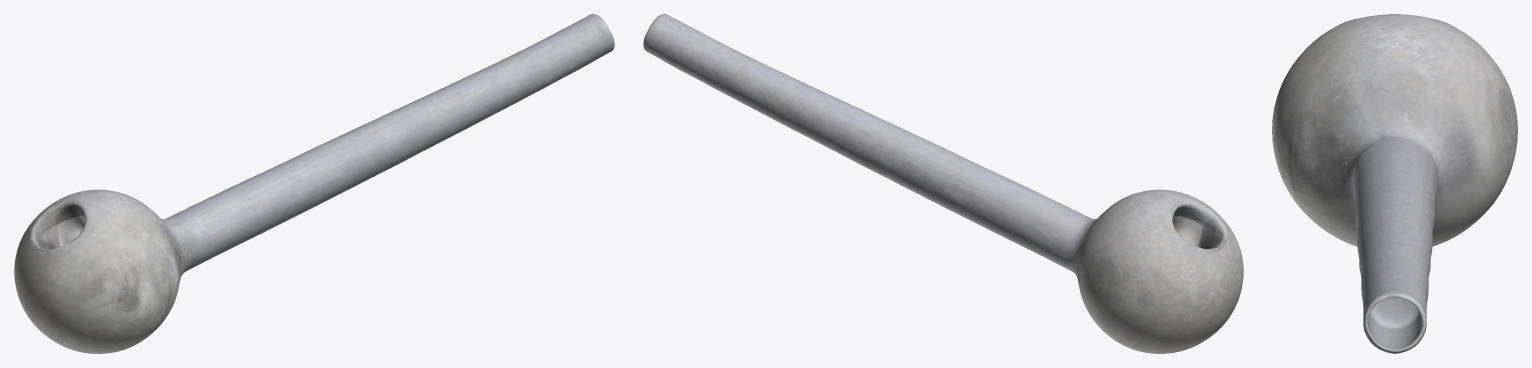
Rendered from Glass_Pipe_0130123327_texture.glb.
3 renders of one model, left to right at view 1: azimuth 30°, elevation 25°; view 2: azimuth 150°, elevation 25°; view 3: azimuth 270°, elevation 25°, orthographic. The views are drawn at different scales.
Bounding box in the file's own units: 2 × 0.683 × 0.4943.
Materials: 1 (1 with a texture image).
